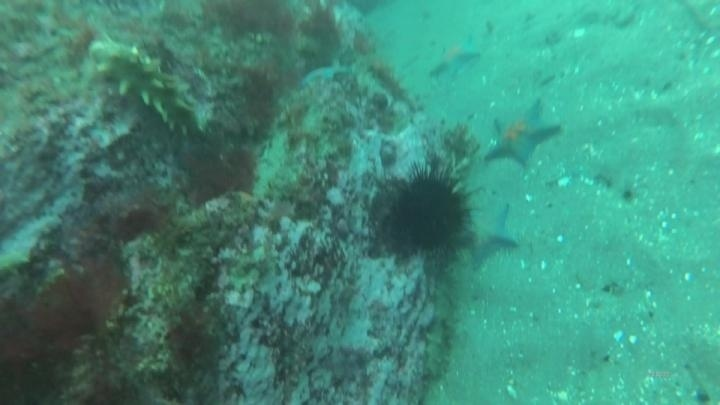echinus: (381, 164, 474, 261)
holothurian: (86, 34, 205, 138), (418, 312, 458, 385)
starfish: (481, 99, 564, 170), (460, 199, 522, 270), (427, 33, 483, 82), (298, 61, 351, 91)
